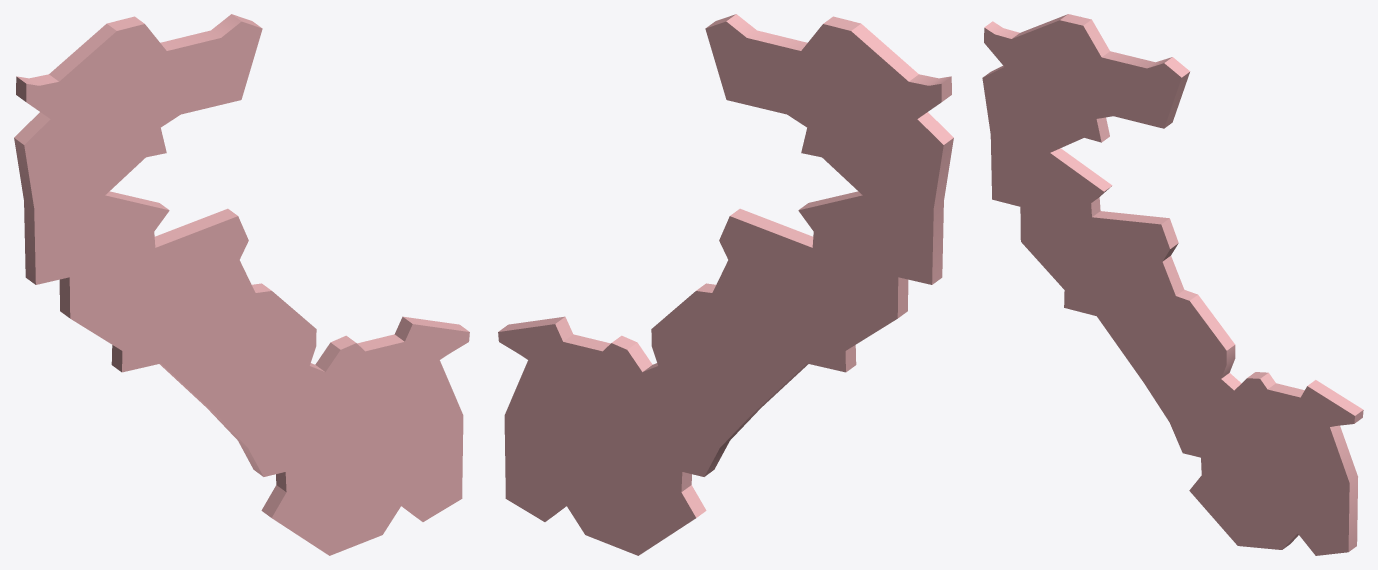
File: tamazula.fbx
3 views of the same model, side by side, from view 1: azimuth 30°, elevation 25°; view 2: azimuth 150°, elevation 25°; view 3: azimuth 330°, elevation 25° (orthographic). The views are drawn at different scales.
Parts seen in each view (by area): view 1: tamazula; view 2: tamazula; view 3: tamazula.
Part boxes in pixels (bbox=[...]): tamazula: bbox=[14, 14, 469, 555]; tamazula: bbox=[498, 14, 953, 555]; tamazula: bbox=[982, 14, 1363, 555].
Bounding box in the file's own units: 202 × 250 × 8.
